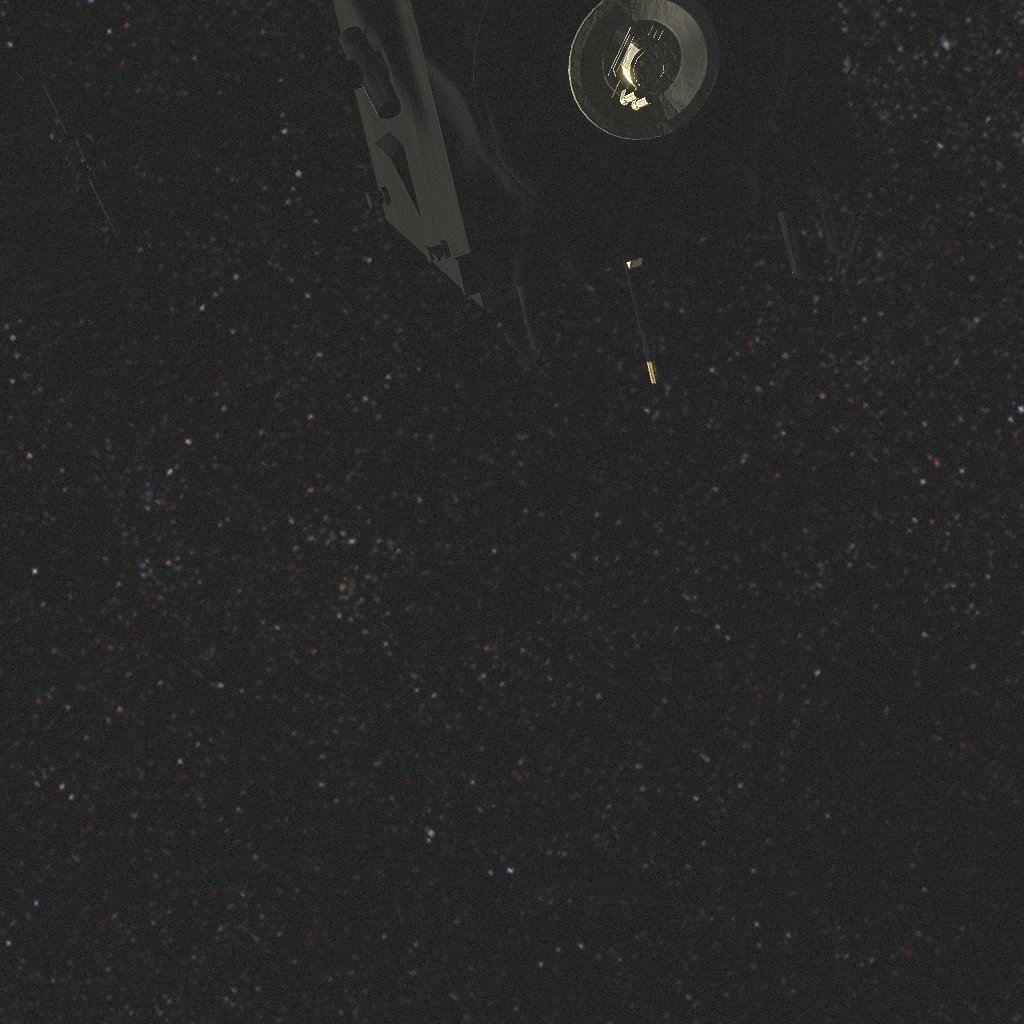smart_1: (0, 0, 865, 383)
